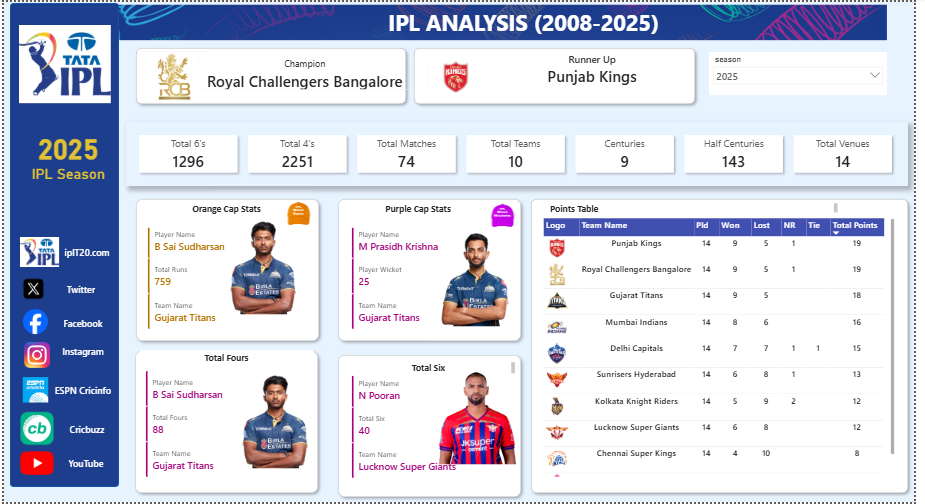

This screenshot's page, from the dashboard's own definition file:
{"tool":"powerbi","page":{"name":"Page 1","canvas":[2000,1100],"ordinal":0},"visuals":[{"type":"shape","box":[279.4,422.4,424.6,334.4],"z":0},{"type":"shape","box":[891,90.2,640.2,145.2],"z":1000},{"type":"cardVisual","fields":{"Data":["ipl_matches_data.Runner UP Team Logo"]},"box":[913,107.8,160.6,114.4],"z":2000},{"type":"shape","box":[279.4,90.2,616,145.2],"z":3000},{"type":"cardVisual","fields":{"Data":["ipl_matches_data.Season Winner Logo"]},"box":[279.4,81.4,189.2,154],"z":4000},{"type":"image","box":[213.4,0,1729.2,90.2],"z":5000},{"type":"shape","box":[13.2,2.2,239.8,1064.8],"z":6000},{"type":"textbox","box":[827.2,6.6,640.2,83.6],"z":7000},{"type":"slicer","fields":{"Values":["ipl_matches_data.season"]},"box":[1551,110,391.6,94.6],"z":8000},{"type":"cardVisual","fields":{"Data":["ipl_matches_data.Season Winner"]},"box":[409.2,103.4,503.8,107.8],"z":9000},{"type":"cardVisual","fields":{"Data":["ipl_matches_data.Runner Up"]},"box":[1040.6,90.2,506,114.4],"z":10000},{"type":"cardVisual","fields":{"Data":["ipl_matches_data.Total 6's","ipl_matches_data.Total 4's","ipl_matches_data.Total Matches","ipl_matches_data.Total Teams","ipl_matches_data.Centuries","ipl_matches_data.Half Centuries","ipl_matches_data.Total Venues"]},"box":[269,264,1720.4,140.8],"z":11000},{"type":"cardVisual","fields":{"Data":["ipl_matches_data.Orange Cap Holder","ipl_matches_data.Orange Cap Runs","ipl_matches_data.Orange Cap Team Name"]},"box":[299.2,468.6,292.6,270.6],"z":12000},{"type":"textbox","box":[299.2,437.8,380.6,59.4],"z":13000},{"type":"cardVisual","fields":{"Data":["ipl_matches_data.Orange Cap Image","ipl_matches_data.Orange Cap Image"]},"box":[446.6,396,250.8,365.2],"z":14000},{"type":"image","box":[618.2,437.8,61.6,55],"z":15000},{"type":"shape","box":[723.8,422.4,424.6,334.4],"z":16000},{"type":"cardVisual","fields":{"Data":["ipl_matches_data.PurpleCapHolder","ipl_matches_data.PurpleCapWicketCount","ipl_matches_data.PurpleCapTeam"]},"box":[748,468.6,292.6,270.6],"z":17000},{"type":"cardVisual","fields":{"Data":["ipl_matches_data.PurpleCapImage"]},"box":[915.2,422.4,250.8,365.2],"z":18000},{"type":"textbox","box":[748,437.8,325.6,59.4],"z":19000},{"type":"image","box":[1067,442.2,61.6,55],"z":20000},{"type":"shape","box":[277.2,756.8,424.6,334.4],"z":21000},{"type":"cardVisual","fields":{"Data":["ipl_matches_data.Top Fours Player Name","ipl_matches_data.Top Fours Count","ipl_matches_data.Top Fours Player Team Name"]},"box":[294.8,794.2,292.6,270.6],"z":22000},{"type":"cardVisual","fields":{"Data":["ipl_matches_data.Orange Cap Image"]},"box":[473,734.8,250.8,365.2],"z":23000},{"type":"shape","box":[723.8,765.6,424.6,334.4],"z":24000},{"type":"cardVisual","fields":{"Data":["ipl_matches_data.Top Six Player Name","ipl_matches_data.Top Six Count","ipl_matches_data.Top Six Player Team Name"]},"box":[748,796.4,292.6,270.6],"z":25000},{"type":"textbox","box":[299.2,765.6,380.6,39.6],"z":26000},{"type":"textbox","box":[748,787.6,380.6,35.2],"z":27000},{"type":"cardVisual","fields":{"Data":["ipl_matches_data.PurpleCapImage"]},"box":[915.2,726,250.8,365.2],"z":28000},{"type":"shape","box":[1148.4,422.4,851.4,668.8],"z":29000},{"type":"tableEx","fields":{"Values":["teams_data.image_url","teams_data.team_name","ipl_matches_data.Matches Played","ipl_matches_data.Matches Won","ipl_matches_data.Matches Lost","ipl_matches_data.No Result Played","ipl_matches_data.Tie Matches","ipl_matches_data.Total Points"]},"box":[1181.4,470.8,783.2,578.6],"z":30000},{"type":"textbox","box":[1196.8,437.8,642.4,33],"z":31000},{"type":"image","box":[33,50.6,202.4,171.6],"z":32000},{"type":"cardVisual","fields":{"Data":["ipl_matches_data.IPL Season"]},"box":[30.8,264,222.2,158.4],"z":33000},{"type":"actionButton","box":[112.2,517,140.8,66],"z":34000},{"type":"image","box":[35.2,517,85.8,66],"z":35000},{"type":"image","box":[30.8,583,68.2,96.8],"z":36000},{"type":"actionButton","box":[99,598.4,140.8,66],"z":37000},{"type":"image","box":[41.8,666.6,55,72.6],"z":38000},{"type":"actionButton","box":[103.4,673.2,140.8,66],"z":39000},{"type":"image","box":[24.2,748,96.8,57.2],"z":40000},{"type":"actionButton","box":[103.4,734.8,140.8,66],"z":41000},{"type":"image","box":[13.2,794.2,112.2,118.8],"z":42000},{"type":"actionButton","box":[103.4,820.6,140.8,66],"z":43000},{"type":"image","box":[35.2,871.2,74.8,134.2],"z":44000},{"type":"actionButton","box":[112.2,906.4,140.8,66],"z":45000},{"type":"image","box":[35.2,961.4,74.8,105.6],"z":46000},{"type":"actionButton","box":[110,981.2,140.8,66],"z":47000}]}

Visuals, with their boxes in screenshot pixels (x1, y1, x2, y2), scaled from the page's 2000x1100 canvas onto the 925x504 screenshot:
shape: <region>129, 194, 326, 347</region>
shape: <region>412, 41, 708, 108</region>
cardVisual - ipl_matches_data.Runner UP Team Logo: <region>422, 49, 497, 102</region>
shape: <region>129, 41, 414, 108</region>
cardVisual - ipl_matches_data.Season Winner Logo: <region>129, 37, 217, 108</region>
image: <region>99, 0, 898, 41</region>
shape: <region>6, 1, 117, 489</region>
textbox: <region>383, 3, 679, 41</region>
slicer - ipl_matches_data.season: <region>717, 50, 898, 94</region>
cardVisual - ipl_matches_data.Season Winner: <region>189, 47, 422, 97</region>
cardVisual - ipl_matches_data.Runner Up: <region>481, 41, 715, 94</region>
cardVisual - ipl_matches_data.Total 6's x ipl_matches_data.Total 4's: <region>124, 121, 920, 185</region>
cardVisual - ipl_matches_data.Orange Cap Holder x ipl_matches_data.Orange Cap Runs: <region>138, 215, 274, 339</region>
textbox: <region>138, 201, 314, 228</region>
cardVisual - ipl_matches_data.Orange Cap Image x ipl_matches_data.Orange Cap Image: <region>207, 181, 323, 349</region>
image: <region>286, 201, 314, 226</region>
shape: <region>335, 194, 531, 347</region>
cardVisual - ipl_matches_data.PurpleCapHolder x ipl_matches_data.PurpleCapWicketCount: <region>346, 215, 481, 339</region>
cardVisual - ipl_matches_data.PurpleCapImage: <region>423, 194, 539, 361</region>
textbox: <region>346, 201, 497, 228</region>
image: <region>493, 203, 522, 228</region>
shape: <region>128, 347, 325, 500</region>
cardVisual - ipl_matches_data.Top Fours Player Name x ipl_matches_data.Top Fours Count: <region>136, 364, 272, 488</region>
cardVisual - ipl_matches_data.Orange Cap Image: <region>219, 337, 335, 503</region>
shape: <region>335, 351, 531, 503</region>
cardVisual - ipl_matches_data.Top Six Player Name x ipl_matches_data.Top Six Count: <region>346, 365, 481, 489</region>
textbox: <region>138, 351, 314, 369</region>
textbox: <region>346, 361, 522, 377</region>
cardVisual - ipl_matches_data.PurpleCapImage: <region>423, 333, 539, 500</region>
shape: <region>531, 194, 924, 500</region>
tableEx - teams_data.image_url x teams_data.team_name: <region>546, 216, 909, 481</region>
textbox: <region>554, 201, 851, 216</region>
image: <region>15, 23, 109, 102</region>
cardVisual - ipl_matches_data.IPL Season: <region>14, 121, 117, 194</region>
actionButton: <region>52, 237, 117, 267</region>
image: <region>16, 237, 56, 267</region>
image: <region>14, 267, 46, 311</region>
actionButton: <region>46, 274, 111, 304</region>
image: <region>19, 305, 45, 339</region>
actionButton: <region>48, 308, 113, 339</region>
image: <region>11, 343, 56, 369</region>
actionButton: <region>48, 337, 113, 367</region>
image: <region>6, 364, 58, 418</region>
actionButton: <region>48, 376, 113, 406</region>
image: <region>16, 399, 51, 461</region>
actionButton: <region>52, 415, 117, 446</region>
image: <region>16, 440, 51, 489</region>
actionButton: <region>51, 450, 116, 480</region>
